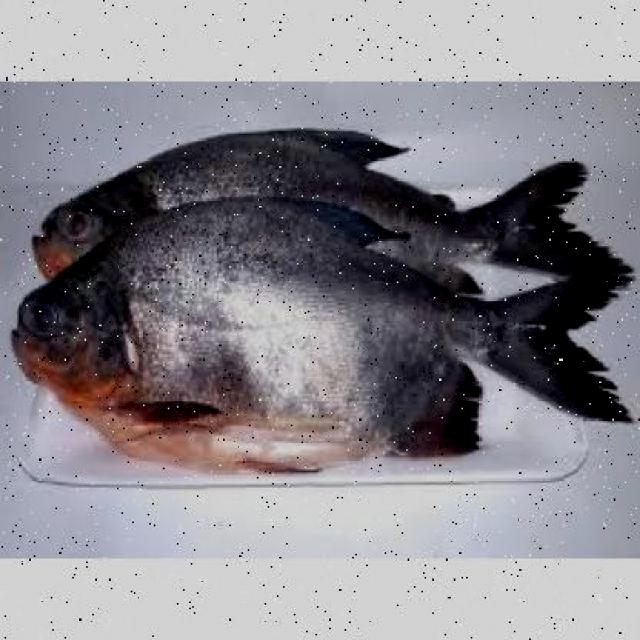ikan-pacu: (9, 203, 608, 468), (30, 126, 579, 277)
